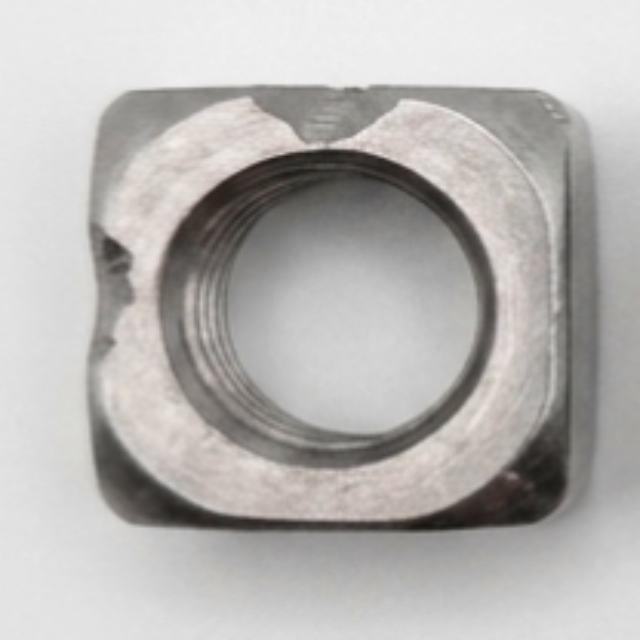defect: (244, 73, 409, 144), (78, 217, 143, 372), (524, 85, 578, 138)
